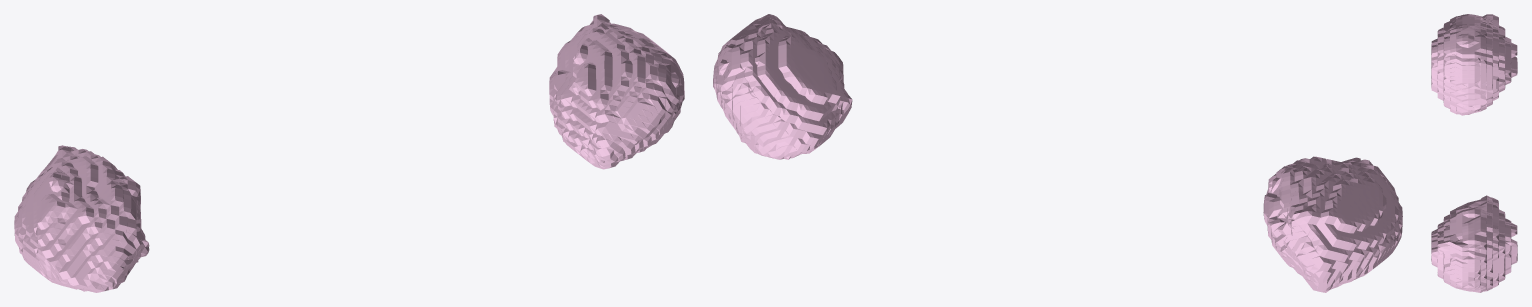
File: VFB_00102159.glb
3 views of the same model, side by side, from view 1: azimuth 30°, elevation 25°; view 2: azimuth 150°, elevation 25°; view 3: azimuth 270°, elevation 25° (orthographic). The views are drawn at different scales.
Visible parts, largest first — view 1: VFB_00102159; view 2: VFB_00102159; view 3: VFB_00102159.
Part boxes in pixels (x1,y1,x2,y2): VFB_00102159: (14, 14, 684, 292); VFB_00102159: (713, 14, 1402, 292); VFB_00102159: (1431, 14, 1517, 292).
Bounding box in the file's own units: 0.3406 × 0.0676 × 0.055.
